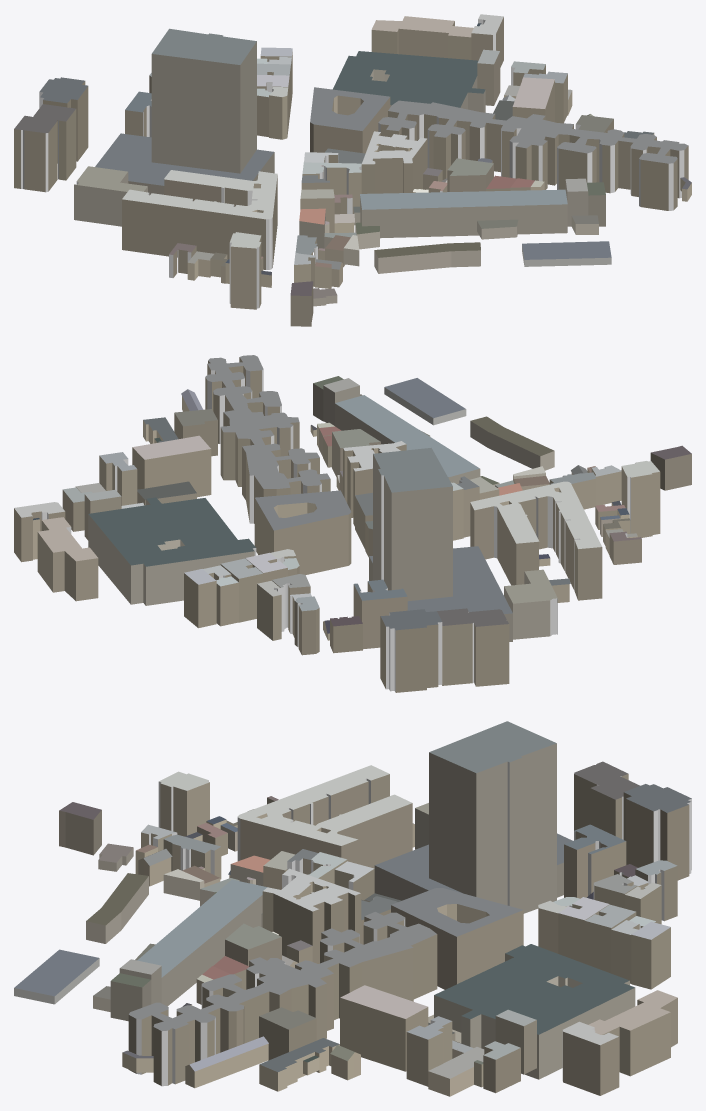
3 renders of one model, top to bottom at view 1: azimuth 30°, elevation 25°; view 2: azimuth 150°, elevation 25°; view 3: azimuth 270°, elevation 25°, orthographic. The views are drawn at different scales.
Parts seen in each view (by area): view 1: tuile; view 2: tuile; view 3: tuile.
Boxes of the visible parts, x1,y1,x2,y2 form: tuile: (14, 14, 691, 326); tuile: (14, 355, 691, 692); tuile: (14, 721, 691, 1096).
Bounding box in the file's own units: 277 × 74.36 × 279.
